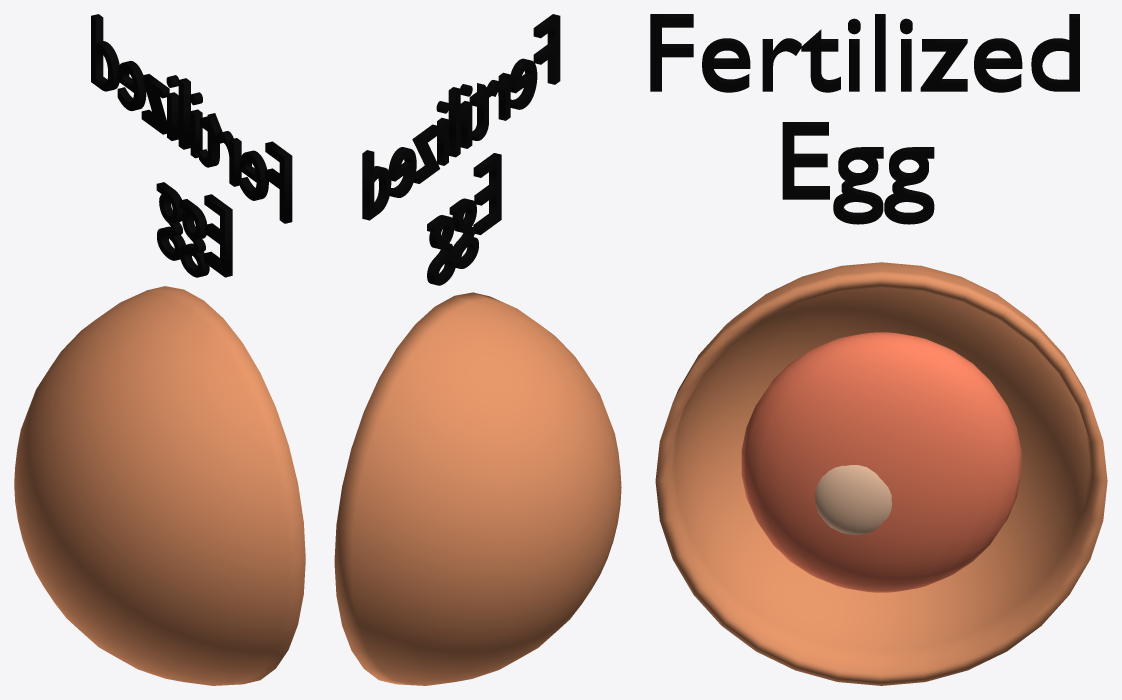
File: (2)Fertilized Egg.gltf
The picture shows the model from 3 angles, left to right: view 1: azimuth 30°, elevation 25°; view 2: azimuth 150°, elevation 25°; view 3: azimuth 270°, elevation 25°; orthographic projection. The views are drawn at different scales.
Parts seen in each view (by area): view 1: Sphere, Text; view 2: Sphere, Text; view 3: Sphere, Sphere.002, Text, Sphere.001.
Part boxes in pixels (x1,y1,x2,y2): Sphere: [14, 286, 305, 685]; Text: [91, 14, 292, 277]; Sphere: [334, 292, 621, 685]; Text: [362, 14, 560, 285]; Sphere: [655, 262, 1107, 685]; Sphere.002: [741, 332, 1021, 592]; Text: [650, 14, 1079, 224]; Sphere.001: [815, 465, 891, 534].
Size of the model in its own units: 0.8967 by 2.79 by 1.76.
